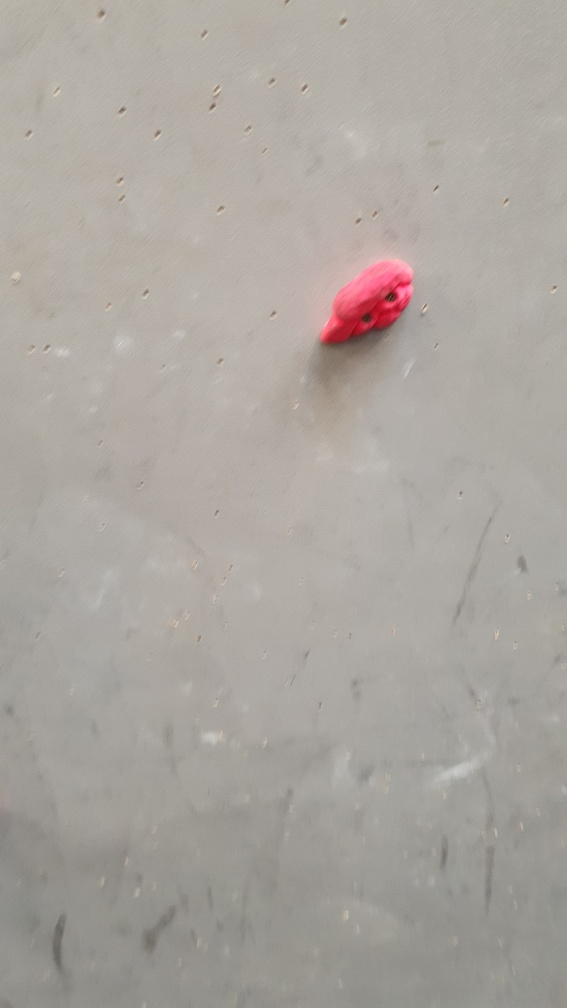Jug: (325, 257, 416, 345)
